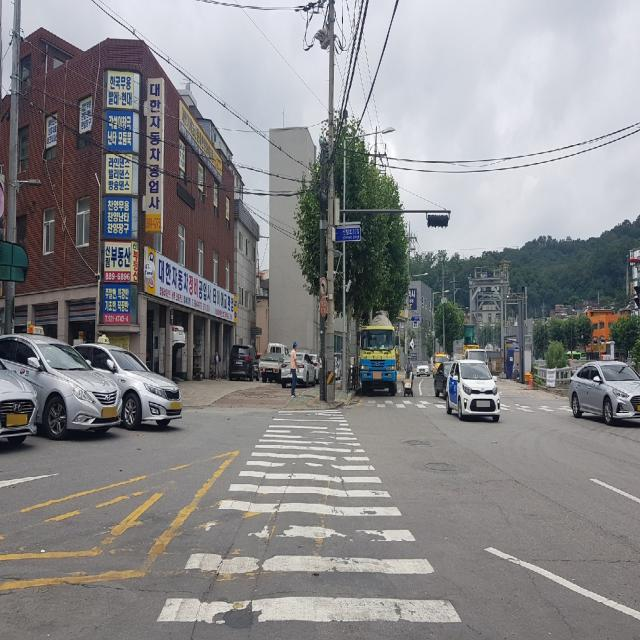횡단보도: (156, 408, 462, 626)
